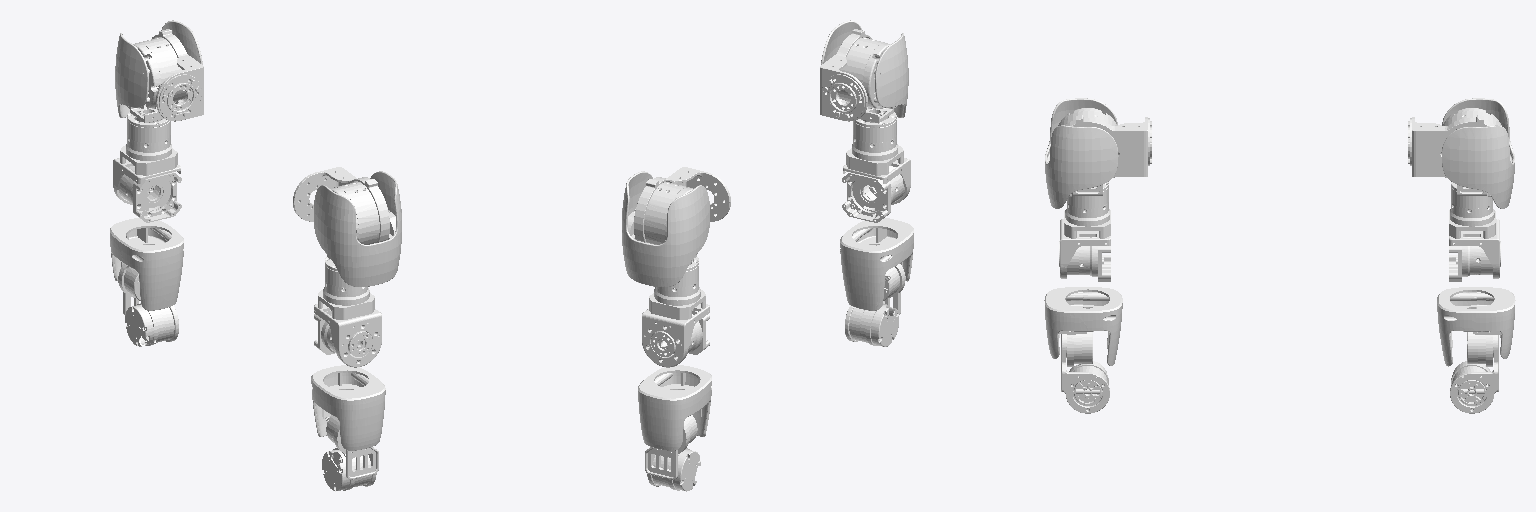
--- Render facts (derived) ---
Views: 3 orthographic renders of the robot side by side, from view 1: azimuth 30°, elevation 25°; view 2: azimuth 150°, elevation 25°; view 3: azimuth 270°, elevation 25°.
Robot: biped_s4 — 15 links, 14 joints (14 revolute); root link torso; default pose: every joint at zero.
Visible links, largest first — view 1: r_arm_roll, l_hand_yaw, l_arm_yaw, r_hand_yaw, r_arm_yaw, l_arm_pitch, r_arm_pitch, l_arm_roll, r_hand_pitch, l_hand_pitch; view 2: l_arm_roll, r_arm_yaw, r_hand_yaw, l_hand_yaw, l_arm_yaw, r_arm_pitch, l_arm_pitch, r_arm_roll, r_hand_pitch, l_hand_pitch; view 3: r_arm_roll, l_arm_roll, l_hand_yaw, r_hand_yaw, l_arm_yaw, r_arm_yaw, l_arm_pitch, r_arm_pitch, l_hand_pitch, r_hand_pitch.
Link boxes in pixels (x1=…): r_arm_roll: x1=314, y1=171, x2=401, y2=286; l_hand_yaw: x1=110, y1=218, x2=183, y2=310; l_arm_yaw: x1=113, y1=112, x2=181, y2=222; r_hand_yaw: x1=311, y1=365, x2=385, y2=453; r_arm_yaw: x1=314, y1=257, x2=381, y2=367; l_arm_pitch: x1=133, y1=29, x2=203, y2=121; r_arm_pitch: x1=293, y1=167, x2=389, y2=244; l_arm_roll: x1=115, y1=20, x2=202, y2=122; r_hand_pitch: x1=322, y1=447, x2=378, y2=491; l_hand_pitch: x1=123, y1=292, x2=178, y2=346; l_arm_roll: x1=622, y1=171, x2=709, y2=286; r_arm_yaw: x1=842, y1=112, x2=910, y2=222; r_hand_yaw: x1=840, y1=218, x2=913, y2=310; l_hand_yaw: x1=638, y1=365, x2=711, y2=453; l_arm_yaw: x1=642, y1=257, x2=709, y2=367; r_arm_pitch: x1=820, y1=29, x2=890, y2=121; l_arm_pitch: x1=634, y1=167, x2=730, y2=244; r_arm_roll: x1=821, y1=20, x2=908, y2=123; r_hand_pitch: x1=845, y1=292, x2=900, y2=346; l_hand_pitch: x1=645, y1=447, x2=700, y2=491; r_arm_roll: x1=1045, y1=98, x2=1117, y2=208; l_arm_roll: x1=1442, y1=98, x2=1514, y2=208; l_hand_yaw: x1=1437, y1=287, x2=1515, y2=366; r_hand_yaw: x1=1044, y1=287, x2=1122, y2=366; l_arm_yaw: x1=1449, y1=182, x2=1500, y2=281; r_arm_yaw: x1=1059, y1=182, x2=1110, y2=281; l_arm_pitch: x1=1408, y1=108, x2=1501, y2=177; r_arm_pitch: x1=1058, y1=108, x2=1151, y2=177; l_hand_pitch: x1=1450, y1=335, x2=1498, y2=413; r_hand_pitch: x1=1061, y1=334, x2=1109, y2=413.
Bounding box of the posed robot: 0.1088 × 0.6244 × 0.4357 m (x, y, z).
12 mesh visuals loaded from 15 distinct referenced files (12 OBJ); not drawn: 3 (reference not matched to a file when rendering).

robot.urdf — biped_s4:
<?xml version="1.0" encoding="utf-8" ?>
<!-- This URDF was automatically created by SolidWorks to URDF Exporter! Originally created by Stephen Brawner ([email redacted]) 
     Commit Version: 1.6.0-4-g7f85cfe  Build Version: 1.6.7995.38578
     For more information, please see http://wiki.ros.org/sw_urdf_exporter -->
<robot name="biped_s4">
    <link name="torso">
        <inertial>
            <origin xyz="-0.0131642143292668 -0.00101855461920045 0.120968817067497" rpy="0 0 0" />
            <mass value="17.7538790248349" />
            <inertia ixx="0.109513413578877" ixy="-3.84263402967609E-06" ixz="0.002072229236261" iyy="0.0639718644540955" iyz="5.94596039793819E-06" izz="0.0796086142464887" />
        </inertial>
        <visual>
            <origin xyz="0 0 0" rpy="0 0 0" />
            <geometry>
                <mesh filename="../meshes/torso.obj" />
            </geometry>
            <material name="">
                <color rgba="1 1 1 1" />
            </material>
        </visual>
        <collision>
            <origin xyz="0 0 0" rpy="0 0 0" />
            <geometry>
                <mesh filename="../meshes/torso.obj" />
            </geometry>
        </collision>
    </link>

    <link name="l_arm_pitch">
        <inertial>
            <origin xyz="0.0146835191418715 -0.0166604103758634 -6.82857133369463E-05" rpy="0 0 0" />
            <mass value="0.165847319965906" />
            <inertia ixx="0.0002674432873971" ixy="-2.5654089149164E-05" ixz="-1.72966133127557E-07" iyy="0.000125796784291983" iyz="-1.66717296343014E-06" izz="0.000196186976742156" />
        </inertial>
        <visual>
            <origin xyz="0 0 0" rpy="0 0 0" />
            <geometry>
                <mesh filename="../meshes/l_arm_pitch.obj" />
            </geometry>
            <material name="">
                <color rgba="1 1 1 1" />
            </material>
        </visual>
        <collision>
            <origin xyz="0 0 0" rpy="0 0 0" />
            <geometry>
                <mesh filename="../meshes/l_arm_pitch.obj" />
            </geometry>
        </collision>
    </link>
    <joint name="l_arm_pitch" type="revolute">
        <origin xyz="-0.0175475823124921 0.254700000000031 0.324500000000024" rpy="0 0 0" />
        <parent link="torso" />
        <child link="l_arm_pitch" />
        <axis xyz="0 1 0" />
        <limit velocity="1" effort="20" lower="-3.14159"  upper="0.523599" /> 
    </joint>
    <link name="l_arm_roll">
        <inertial>
            <origin xyz="0.0222872651779294 0.0156945544195443 -0.0202262244341467" rpy="0 0 0" />
            <mass value="0.14142658141305" />
            <inertia ixx="0.000160370067223078" ixy="6.30811840859276E-06" ixz="-1.13259246453472E-05" iyy="0.000262365778589952" iyz="3.14941259087025E-05" izz="0.000236014036281963" />
        </inertial>
        <visual>
            <origin xyz="0 0 0" rpy="0 0 0" />
            <geometry>
                <mesh filename="../meshes/l_arm_roll.obj" />
            </geometry>
            <material name="">
                <color rgba="1 1 1 1" />
            </material>
        </visual>
        <collision>
            <origin xyz="0 0 0" rpy="0 0 0" />
            <geometry>
                <mesh filename="../meshes/l_arm_roll.obj" />
            </geometry>
        </collision>
    </link>
    <joint name="l_arm_roll" type="revolute">
        <origin xyz="0 0 0" rpy="0 0 0" />
        <parent link="l_arm_pitch" />
        <child link="l_arm_roll" />
        <axis xyz="1 0 0" />
        <limit velocity="1" effort="20" lower="-0.0" upper="2.0944" /> 
    </joint>
    <link name="l_arm_yaw">
        <inertial>
            <origin xyz="6.16940440653045E-05 0.00525815062787316 -0.12882194485465" rpy="0 0 0" />
            <mass value="0.147794102819133" />
            <inertia ixx="7.00575957554695E-05" ixy="-6.81658230071221E-10" ixz="2.6942707856767E-10" iyy="8.53612265336774E-05" iyz="6.95899873075697E-06" izz="8.82223899453282E-05" />
        </inertial>
        <visual>
            <origin xyz="0 0 0" rpy="0 0 0" />
            <geometry>
                <mesh filename="../meshes/l_arm_yaw.obj" />
            </geometry>
            <material name="">
                <color rgba="1 1 1 1" />
            </material>
        </visual>
        <collision>
            <origin xyz="0 0 0" rpy="0 0 0" />
            <geometry>
                <mesh filename="../meshes/l_arm_yaw.obj" />
            </geometry>
        </collision>
    </link>
    <joint name="l_arm_yaw" type="revolute">
        <origin xyz="0 0 0" rpy="0 0 0" />
        <parent link="l_arm_roll" />
        <child link="l_arm_yaw" />
        <axis xyz="0 0 1" />
        <limit velocity="1" effort="20" lower="-1.5708" upper="1.5708" />
    </joint>
    <link name="l_forearm_pitch">
        <inertial>
            <origin xyz="-1.42819297162602E-05 0.00938313949963104 -0.0522687552263907" rpy="0 0 0" />
            <mass value="0.170164726102014" />
            <inertia ixx="9.55808447606964E-05" ixy="-4.53863489155473E-08" ixz="5.39342118114986E-08" iyy="0.000126326373178401" iyz="-9.58160032696802E-06" izz="0.000121032474884244" />
        </inertial>
        <visual>
            <origin xyz="0 0 0" rpy="0 0 0" />
            <geometry>
                <mesh filename="../meshes/l_forearm_pitch.obj" />
            </geometry>
            <material name="">
                <color rgba="1 1 1 1" />
            </material>
        </visual>
        <collision>
            <origin xyz="0 0 0" rpy="0 0 0" />
            <geometry>
                <mesh filename="../meshes/l_forearm_pitch.obj" />
            </geometry>
        </collision>
    </link>
    <joint name="l_forearm_pitch" type="revolute">
        <origin xyz="0 0 -0.163599999999996" rpy="0 0 0" />
        <parent link="l_arm_yaw" />
        <child link="l_forearm_pitch" />
        <axis xyz="0 1 0" />
        <limit velocity="1" effort="20" lower="-1.5708" upper="0" /> 
    </joint>
    <link name="l_hand_yaw">
        <inertial>
            <origin xyz="0.000113131262875685 0.00969728110559553 0.0227960708688583" rpy="0 0 0" />
            <mass value="0.157336277379834" />
            <inertia ixx="7.64923971357921E-05" ixy="8.51207618055666E-09" ixz="-1.40676645868301E-08" iyy="0.000122231121933325" iyz="1.11226992393513E-06" izz="8.44934959384744E-05" />
        </inertial>
        <visual>
            <origin xyz="0 0 0" rpy="0 0 0" />
            <geometry>
                <mesh filename="../meshes/l_hand_yaw.obj" />
            </geometry>
            <material name="">
                <color rgba="1 1 1 1" />
            </material>
        </visual>
        <collision>
            <origin xyz="0 0 0" rpy="0 0 0" />
            <geometry>
                <mesh filename="../meshes/l_hand_yaw.obj" />
            </geometry>
        </collision>
    </link>
    <joint name="l_hand_yaw" type="revolute">
        <origin xyz="0 0 -0.132050000118071" rpy="0 0 0" />
        <parent link="l_forearm_pitch" />
        <child link="l_hand_yaw" />
        <limit velocity="1" effort="20" lower="-1.5708" upper="1.5708" />
        <axis xyz="0 0 1" />
    </joint>
    <link name="l_hand_pitch">
        <inertial>
            <origin xyz="0.00810609772930763 0.00490163171050539 -0.0527751110917489" rpy="0 0 0" />
            <mass value="0.0853891779246004" />
            <inertia ixx="4.77321490368476E-05" ixy="3.05261917457108E-06" ixz="4.77827164947653E-06" iyy="3.43814769749137E-05" iyz="-4.59311499587152E-06" izz="2.49955336560133E-05" />
        </inertial>
        <visual>
            <origin xyz="0 0 0" rpy="0 0 0" />
            <geometry>
                <mesh filename="../meshes/l_hand_pitch.obj" />
            </geometry>
            <material name="">
                <color rgba="1 1 1 1" />
            </material>
        </visual>
        <collision>
            <origin xyz="0 0 0" rpy="0 0 0" />
            <geometry>
                <mesh filename="../meshes/l_hand_pitch.obj" />
            </geometry>
        </collision>
    </link>
    <joint name="l_hand_pitch" type="revolute">
        <origin xyz="0 0 0" rpy="0 0 0" />
        <parent link="l_hand_yaw" />
        <child link="l_hand_pitch" />
        <axis xyz="0 1 0" />
        <limit velocity="1" effort="20" lower="-1.5708" upper="1.5708" /> 
    </joint>
    <link name="l_hand_roll">
        <inertial>
            <origin xyz="0.00396050555698803 0.00946265387749012 -0.066602176591173" rpy="0 0 0" />
            <mass value="0.151352919071109" />
            <inertia ixx="9.13246737942629E-05" ixy="3.25649345932988E-07" ixz="-4.78728976781085E-06" iyy="0.000139866613946359" iyz="1.1925397914412E-05" izz="0.000125082116428502" />
        </inertial>
        <visual>
            <origin xyz="0 0 0" rpy="0 0 0" />
            <geometry>
                <mesh filename="../meshes/l_hand_roll.obj" />
            </geometry>
            <material name="">
                <color rgba="1 1 1 1" />
            </material>
        </visual>
        <collision>
            <origin xyz="0 0 0" rpy="0 0 0" />
            <geometry>
                <mesh filename="../meshes/l_hand_roll.obj" />
            </geometry>
        </collision>
    </link>
    <joint name="l_hand_roll" type="revolute">
        <origin xyz="0 0 -0.058999997180792" rpy="0 0 0" />
        <parent link="l_hand_pitch" />
        <child link="l_hand_roll" />
        <axis xyz="1 0 0" />
        <limit velocity="1" effort="20" lower="-1.5708" upper="1.5708" />
    </joint>
    <link name="r_arm_pitch">
        <inertial>
            <origin xyz="0.0146743511434554 0.016829800822405 -8.16711977455475E-05" rpy="0 0 0" />
            <mass value="0.165729466195453" />
            <inertia ixx="0.000267364314112701" ixy="2.58822573731612E-05" ixz="-1.74450019197639E-07" iyy="0.000125724274127356" iyz="1.71810516637517E-06" izz="0.000196179895851995" />
        </inertial>
        <visual>
            <origin xyz="0 0 0" rpy="0 0 0" />
            <geometry>
                <mesh filename="../meshes/r_arm_pitch.obj" />
            </geometry>
            <material name="">
                <color rgba="1 1 1 1" />
            </material>
        </visual>
        <collision>
            <origin xyz="0 0 0" rpy="0 0 0" />
            <geometry>
                <mesh filename="../meshes/r_arm_pitch.obj" />
            </geometry>
        </collision>
    </link>
    <joint name="r_arm_pitch" type="revolute">
        <origin xyz="-0.0175475823119764 -0.254700000000003 0.324500000000024" rpy="0 0 0" />
        <parent link="torso" />
        <child link="r_arm_pitch" />
        <axis xyz="0 1 0" />
        <limit velocity="1" effort="20" lower="-3.14159" upper="0.523599" /> 
    </joint>
    <link name="r_arm_roll">
        <inertial>
            <origin xyz="0.0223009070371899 -0.0156950170222252 -0.0202307747728591" rpy="0 0 0" />
            <mass value="0.141493827146865" />
            <inertia ixx="0.000160588534065391" ixy="-6.25733640993197E-06" ixz="-1.13236198591127E-05" iyy="0.000262566981459999" iyz="-3.1493041488675E-05" izz="0.000236151535090871" />
        </inertial>
        <visual>
            <origin xyz="0 0 0" rpy="0 0 0" />
            <geometry>
                <mesh filename="../meshes/r_arm_roll.obj" />
            </geometry>
            <material name="">
                <color rgba="1 1 1 1" />
            </material>
        </visual>
        <collision>
            <origin xyz="0 0 0" rpy="0 0 0" />
            <geometry>
                <mesh filename="../meshes/r_arm_roll.obj" />
            </geometry>
        </collision>
    </link>
    <joint name="r_arm_roll" type="revolute">
        <origin xyz="0 0 0" rpy="0 0 0" />
        <parent link="r_arm_pitch" />
        <child link="r_arm_roll" />
        <axis xyz="1 0 0" />
        <limit velocity="1" effort="20" lower="-2.0944" upper="0" />
    </joint>
    <link name="r_arm_yaw">
        <inertial>
            <origin xyz="-4.82749435399069E-05 -0.00525815062783946 -0.128821944854617" rpy="0 0 0" />
            <mass value="0.147794102819133" />
            <inertia ixx="7.005759575547E-05" ixy="-6.81658260959138E-10" ixz="-2.69427064536621E-10" iyy="8.53612265336777E-05" iyz="-6.95899873075701E-06" izz="8.82223899453284E-05" />
        </inertial>
        <visual>
            <origin xyz="0 0 0" rpy="0 0 0" />
            <geometry>
                <mesh filename="../meshes/r_arm_yaw.obj" />
            </geometry>
            <material name="">
                <color rgba="1 1 1 1" />
            </material>
        </visual>
        <collision>
            <origin xyz="0 0 0" rpy="0 0 0" />
            <geometry>
                <mesh filename="../meshes/r_arm_yaw.obj" />
            </geometry>
        </collision>
    </link>
    <joint name="r_arm_yaw" type="revolute">
        <origin xyz="0 0 0" rpy="0 0 0" />
        <parent link="r_arm_roll" />
        <child link="r_arm_yaw" />
        <axis xyz="0 0 1" />
        <limit velocity="1" effort="20" lower="-1.5708" upper="1.5708" /> 
    </joint>
    <link name="r_forearm_pitch">
        <inertial>
            <origin xyz="-0.000127232990745296 -0.00951602649232614 -0.052268755226349" rpy="0 0 0" />
            <mass value="0.17016472610201" />
            <inertia ixx="9.55808447606902E-05" ixy="-4.53863489771543E-08" ixz="-5.41060583435907E-08" iyy="0.000126326373178393" iyz="9.40982665987161E-06" izz="0.000121032474884238" />
        </inertial>
        <visual>
            <origin xyz="0 0 0" rpy="0 0 0" />
            <geometry>
                <mesh filename="../meshes/r_forearm_pitch.obj" />
            </geometry>
            <material name="">
                <color rgba="1 1 1 1" />
            </material>
        </visual>
        <collision>
            <origin xyz="0 0 0" rpy="0 0 0" />
            <geometry>
                <mesh filename="../meshes/r_forearm_pitch.obj" />
            </geometry>
        </collision>
    </link>
    <joint name="r_forearm_pitch" type="revolute">
        <origin xyz="0 0 -0.1636" rpy="0 0 0" />
        <parent link="r_arm_yaw" />
        <child link="r_forearm_pitch" />
        <axis xyz="0 1 0" />
        <limit velocity="1" effort="20" lower="-1.5708" upper="0" /> 
    </joint>
    <link name="r_hand_yaw">
        <inertial>
            <origin xyz="-0.000112955483967687 -0.00974449526683929 0.0227958280839014" rpy="0 0 0" />
            <mass value="0.157334748658065" />
            <inertia ixx="7.64922331363792E-05" ixy="8.75195261100849E-09" ixz="1.38703019538351E-08" iyy="0.000122230542206117" iyz="-1.1123944412365E-06" izz="8.44929064837534E-05" />
        </inertial>
        <visual>
            <origin xyz="0 0 0" rpy="0 0 0" />
            <geometry>
                <mesh filename="../meshes/r_hand_yaw.obj" />
            </geometry>
            <material name="">
                <color rgba="1 1 1 1" />
            </material>
        </visual>
        <collision>
            <origin xyz="0 0 0" rpy="0 0 0" />
            <geometry>
                <mesh filename="../meshes/r_hand_yaw.obj" />
            </geometry>
        </collision>
    </link>
    <joint name="r_hand_yaw" type="revolute">
        <origin xyz="0 0 -0.132050000118069" rpy="0 0 0" />
        <parent link="r_forearm_pitch" />
        <child link="r_hand_yaw" />
        <limit velocity="1" effort="20" lower="-1.5708" upper="1.5708" />
        <axis xyz="0 0 1" />
    </joint>
    <link name="r_hand_pitch">
        <inertial>
            <origin xyz="0.00735986990228201 -0.00475238307648407 -0.0529411193942666" rpy="0 0 0" />
            <mass value="0.0853891534309893" />
            <inertia ixx="4.77321358097823E-05" ixy="-2.99709432812987E-06" ixz="4.71488437974189E-06" iyy="3.42470226388499E-05" iyz="4.61094199971348E-06" izz="2.51299600072389E-05" />
        </inertial>
        <visual>
            <origin xyz="0 0 0" rpy="0 0 0" />
            <geometry>
                <mesh filename="../meshes/r_hand_pitch.obj" />
            </geometry>
            <material name="">
                <color rgba="1 1 1 1" />
            </material>
        </visual>
        <collision>
            <origin xyz="0 0 0" rpy="0 0 0" />
            <geometry>
                <mesh filename="../meshes/r_hand_pitch.obj" />
            </geometry>
        </collision>
    </link>
    <joint name="r_hand_pitch" type="revolute">
        <origin xyz="0 0 0" rpy="0 0 0" />
        <parent link="r_hand_yaw" />
        <child link="r_hand_pitch" />
        <axis xyz="0 1 0" />
        <limit velocity="1" effort="20" lower="-1.5708" upper="1.5708" />
    </joint>
    <link name="r_hand_roll">
        <inertial>
            <origin xyz="0.00300067727381764 -0.00948299721849261 -0.0665274119439575" rpy="0 0 0" />
            <mass value="0.151513451672293" />
            <inertia ixx="9.14013694279149E-05" ixy="-3.00635383669835E-07" ixz="-4.88449841632957E-06" iyy="0.000140002484811824" iyz="-1.18898278478315E-05" izz="0.000125153253041102" />
        </inertial>
        <visual>
            <origin xyz="0 0 0" rpy="0 0 0" />
            <geometry>
                <mesh filename="../meshes/r_hand_roll.obj" />
            </geometry>
            <material name="">
                <color rgba="1 1 1 1" />
            </material>
        </visual>
        <collision>
            <origin xyz="0 0 0" rpy="0 0 0" />
            <geometry>
                <mesh filename="../meshes/r_hand_roll.obj" />
            </geometry>
        </collision>
    </link>
    <joint name="r_hand_roll" type="revolute">
        <origin xyz="0 0 -0.0590000000076598" rpy="0 0 0" />
        <parent link="r_hand_pitch" />
        <child link="r_hand_roll" />
        <axis xyz="1 0 0" />
        <limit velocity="1" effort="20" lower="-1.5708" upper="1.5708" />
    </joint>

    <transmission name="trans_l_arm_pitch">
        <type>transmission_interface/SimpleTransmission</type>
        <joint name="l_arm_pitch">
            <hardwareInterface>hardware_interface/EffortJointInterface</hardwareInterface>
        </joint>
        <actuator name="l_arm_pitch_motor">
            <hardwareInterface>hardware_interface/EffortJointInterface</hardwareInterface>
            <mechanicalReduction>1</mechanicalReduction>
        </actuator>
    </transmission>
    <transmission name="trans_l_arm_roll">
        <type>transmission_interface/SimpleTransmission</type>
        <joint name="l_arm_roll">
            <hardwareInterface>hardware_interface/EffortJointInterface</hardwareInterface>
        </joint>
        <actuator name="l_arm_roll_motor">
            <hardwareInterface>hardware_interface/EffortJointInterface</hardwareInterface>
            <mechanicalReduction>1</mechanicalReduction>
        </actuator>
    </transmission>
    <transmission name="trans_l_arm_yaw">
        <type>transmission_interface/SimpleTransmission</type>
        <joint name="l_arm_yaw">
            <hardwareInterface>hardware_interface/EffortJointInterface</hardwareInterface>
        </joint>
        <actuator name="l_arm_yaw_motor">
            <hardwareInterface>hardware_interface/EffortJointInterface</hardwareInterface>
            <mechanicalReduction>1</mechanicalReduction>
        </actuator>
    </transmission>
    <transmission name="trans_l_forearm_pitch">
        <type>transmission_interface/SimpleTransmission</type>
        <joint name="l_forearm_pitch">
            <hardwareInterface>hardware_interface/EffortJointInterface</hardwareInterface>
        </joint>
        <actuator name="l_forearm_pitch_motor">
            <hardwareInterface>hardware_interface/EffortJointInterface</hardwareInterface>
            <mechanicalReduction>1</mechanicalReduction>
        </actuator>
    </transmission>
    <transmission name="trans_l_hand_yaw">
        <type>transmission_interface/SimpleTransmission</type>
        <joint name="l_hand_yaw">
            <hardwareInterface>hardware_interface/EffortJointInterface</hardwareInterface>
        </joint>
        <actuator name="l_hand_yaw_motor">
            <hardwareInterface>hardware_interface/EffortJointInterface</hardwareInterface>
            <mechanicalReduction>1</mechanicalReduction>
        </actuator>
    </transmission>
    <transmission name="trans_l_hand_pitch">
        <type>transmission_interface/SimpleTransmission</type>
        <joint name="l_hand_pitch">
            <hardwareInterface>hardware_interface/EffortJointInterface</hardwareInterface>
        </joint>
        <actuator name="l_hand_pitch_motor">
            <hardwareInterface>hardware_interface/EffortJointInterface</hardwareInterface>
            <mechanicalReduction>1</mechanicalReduction>
        </actuator>
    </transmission>
    <transmission name="trans_l_hand_roll">
        <type>transmission_interface/SimpleTransmission</type>
        <joint name="l_hand_roll">
            <hardwareInterface>hardware_interface/EffortJointInterface</hardwareInterface>
        </joint>
        <actuator name="l_hand_roll_motor">
            <hardwareInterface>hardware_interface/EffortJointInterface</hardwareInterface>
            <mechanicalReduction>1</mechanicalReduction>
        </actuator>
    </transmission>
    
    <transmission name="trans_r_arm_pitch">
        <type>transmission_interface/SimpleTransmission</type>
        <joint name="r_arm_pitch">
            <hardwareInterface>hardware_interface/EffortJointInterface</hardwareInterface>
        </joint>
        <actuator name="r_arm_pitch_motor">
            <hardwareInterface>hardware_interface/EffortJointInterface</hardwareInterface>
            <mechanicalReduction>1</mechanicalReduction>
        </actuator>
    </transmission>
    <transmission name="trans_r_arm_roll">
        <type>transmission_interface/SimpleTransmission</type>
        <joint name="r_arm_roll">
            <hardwareInterface>hardware_interface/EffortJointInterface</hardwareInterface>
        </joint>
        <actuator name="r_arm_roll_motor">
            <hardwareInterface>hardware_interface/EffortJointInterface</hardwareInterface>
            <mechanicalReduction>1</mechanicalReduction>
        </actuator>
    </transmission>
    <transmission name="trans_r_arm_yaw">
        <type>transmission_interface/SimpleTransmission</type>
        <joint name="r_arm_yaw">
            <hardwareInterface>hardware_interface/EffortJointInterface</hardwareInterface>
        </joint>
        <actuator name="r_arm_yaw_motor">
            <hardwareInterface>hardware_interface/EffortJointInterface</hardwareInterface>
            <mechanicalReduction>1</mechanicalReduction>
        </actuator>
    </transmission>
    <transmission name="trans_r_forearm_pitch">
        <type>transmission_interface/SimpleTransmission</type>
        <joint name="r_forearm_pitch">
            <hardwareInterface>hardware_interface/EffortJointInterface</hardwareInterface>
        </joint>
        <actuator name="r_forearm_pitch_motor">
            <hardwareInterface>hardware_interface/EffortJointInterface</hardwareInterface>
            <mechanicalReduction>1</mechanicalReduction>
        </actuator>
    </transmission>
    <transmission name="trans_r_hand_yaw">
        <type>transmission_interface/SimpleTransmission</type>
        <joint name="r_hand_yaw">
            <hardwareInterface>hardware_interface/EffortJointInterface</hardwareInterface>
        </joint>
        <actuator name="r_hand_yaw_motor">
            <hardwareInterface>hardware_interface/EffortJointInterface</hardwareInterface>
            <mechanicalReduction>1</mechanicalReduction>
        </actuator>
    </transmission>
    <transmission name="trans_r_hand_pitch">
        <type>transmission_interface/SimpleTransmission</type>
        <joint name="r_hand_pitch">
            <hardwareInterface>hardware_interface/EffortJointInterface</hardwareInterface>
        </joint>
        <actuator name="r_hand_pitch_motor">
            <hardwareInterface>hardware_interface/EffortJointInterface</hardwareInterface>
            <mechanicalReduction>1</mechanicalReduction>
        </actuator>
    </transmission>
    <transmission name="trans_r_hand_roll">
        <type>transmission_interface/SimpleTransmission</type>
        <joint name="r_hand_roll">
            <hardwareInterface>hardware_interface/EffortJointInterface</hardwareInterface>
        </joint>
        <actuator name="r_hand_roll_motor">
            <hardwareInterface>hardware_interface/EffortJointInterface</hardwareInterface>
            <mechanicalReduction>1</mechanicalReduction>
        </actuator>
    </transmission>
   
</robot>
